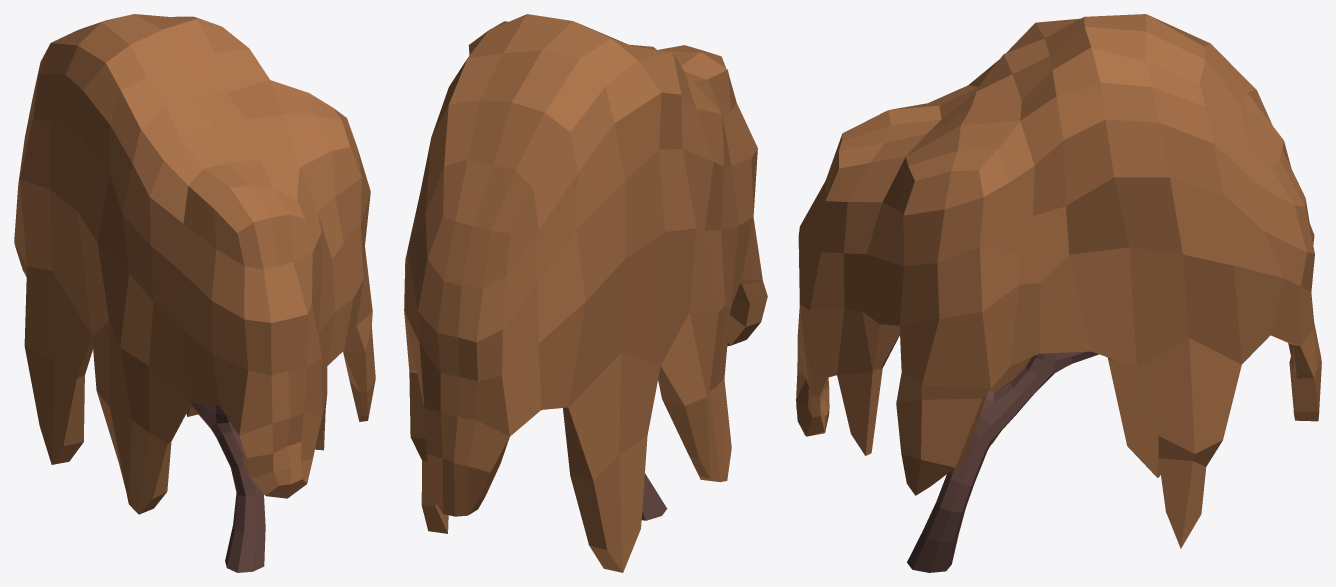
File: Willow_Autumn_1.gltf
3 views of the same model, side by side, from view 1: azimuth 30°, elevation 25°; view 2: azimuth 150°, elevation 25°; view 3: azimuth 270°, elevation 25° (orthographic). The views are drawn at different scales.
Parts seen in each view (by area): view 1: Willow_Autumn_1; view 2: Willow_Autumn_1; view 3: Willow_Autumn_1.
Part boxes in pixels (x1,y1,x2,y2): Willow_Autumn_1: (14, 14, 375, 572); Willow_Autumn_1: (404, 14, 767, 572); Willow_Autumn_1: (796, 14, 1321, 572).
Bounding box in the file's own units: 1.45 × 2.85 × 2.55.
